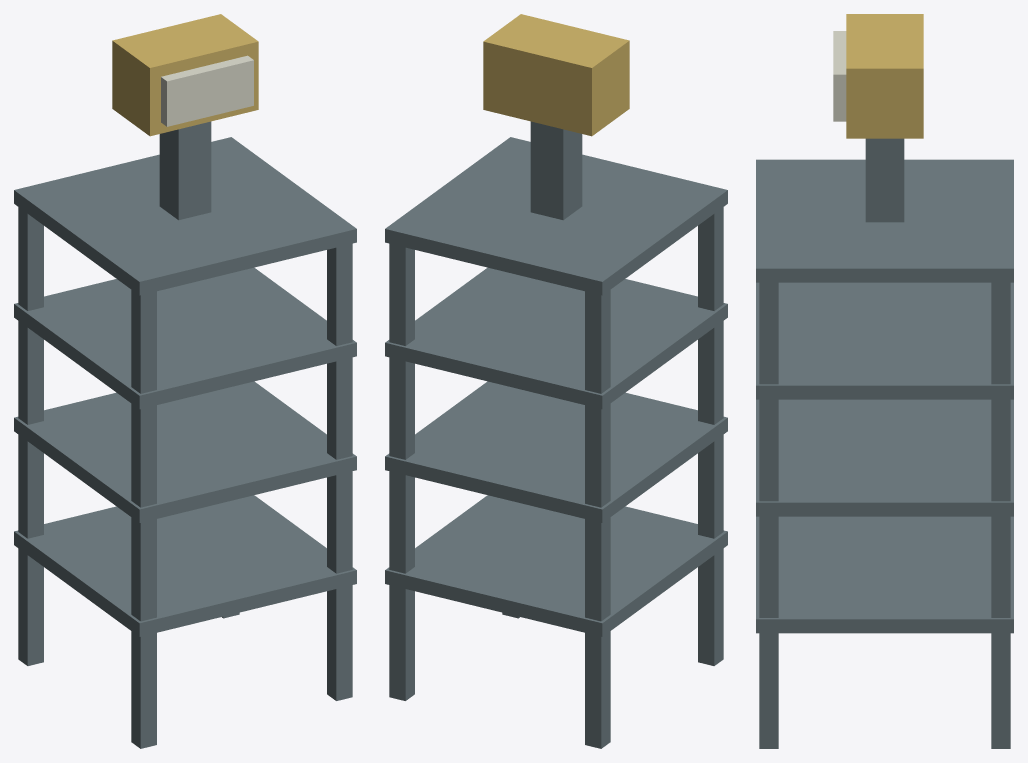
The model's file is zombie-quarantine-streets-searchlight-tower-a4ecd9f5__19326.glb.
3 views of the same model, side by side, from view 1: azimuth 30°, elevation 25°; view 2: azimuth 150°, elevation 25°; view 3: azimuth 270°, elevation 25° (orthographic). The views are drawn at different scales.
Parts seen in each view (by area): view 1: searchlight-tower; view 2: searchlight-tower; view 3: searchlight-tower.
Part boxes in pixels (left/top/right/bottom): searchlight-tower: left=14, top=14, right=356, bottom=748; searchlight-tower: left=385, top=14, right=727, bottom=748; searchlight-tower: left=756, top=14, right=1013, bottom=748.
Size of the model in its own units: 2 by 5.6 by 2.
